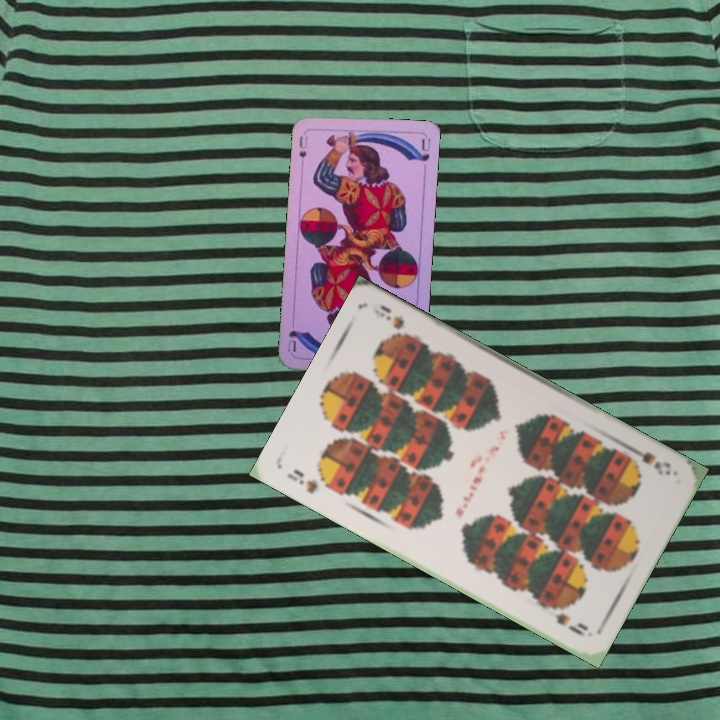S9: (623, 441, 674, 478), (283, 465, 321, 497)
SU: (295, 132, 310, 160)
